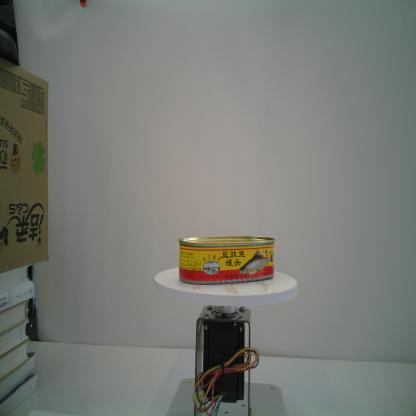Canned Food: (177, 233, 278, 288)
